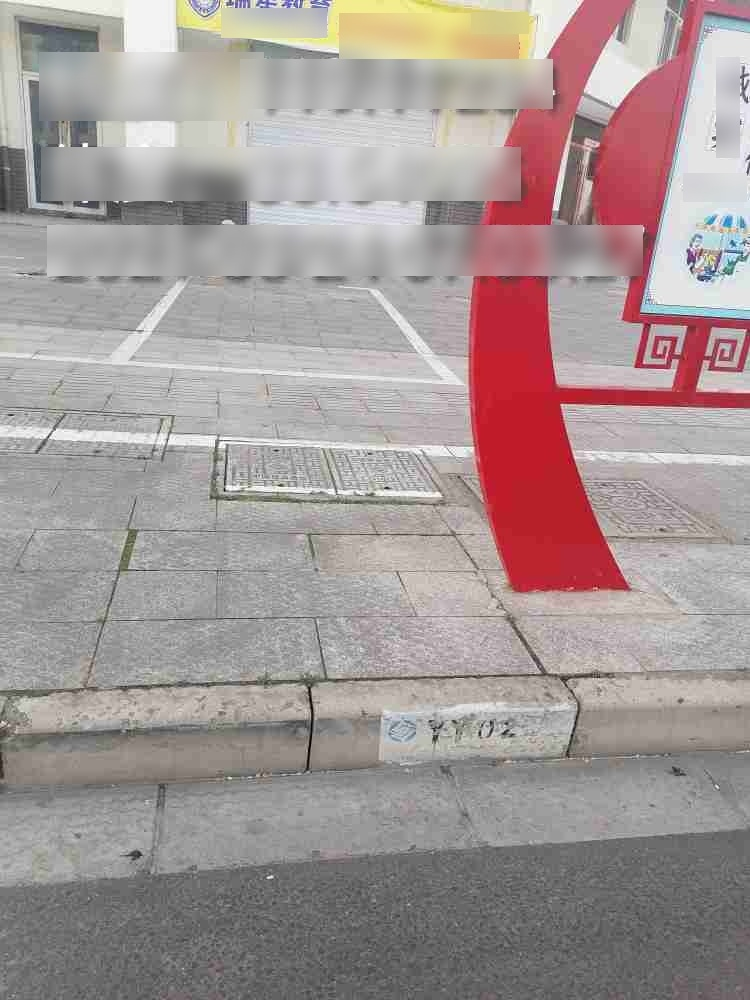good: (208, 438, 456, 503), (2, 406, 174, 462)
